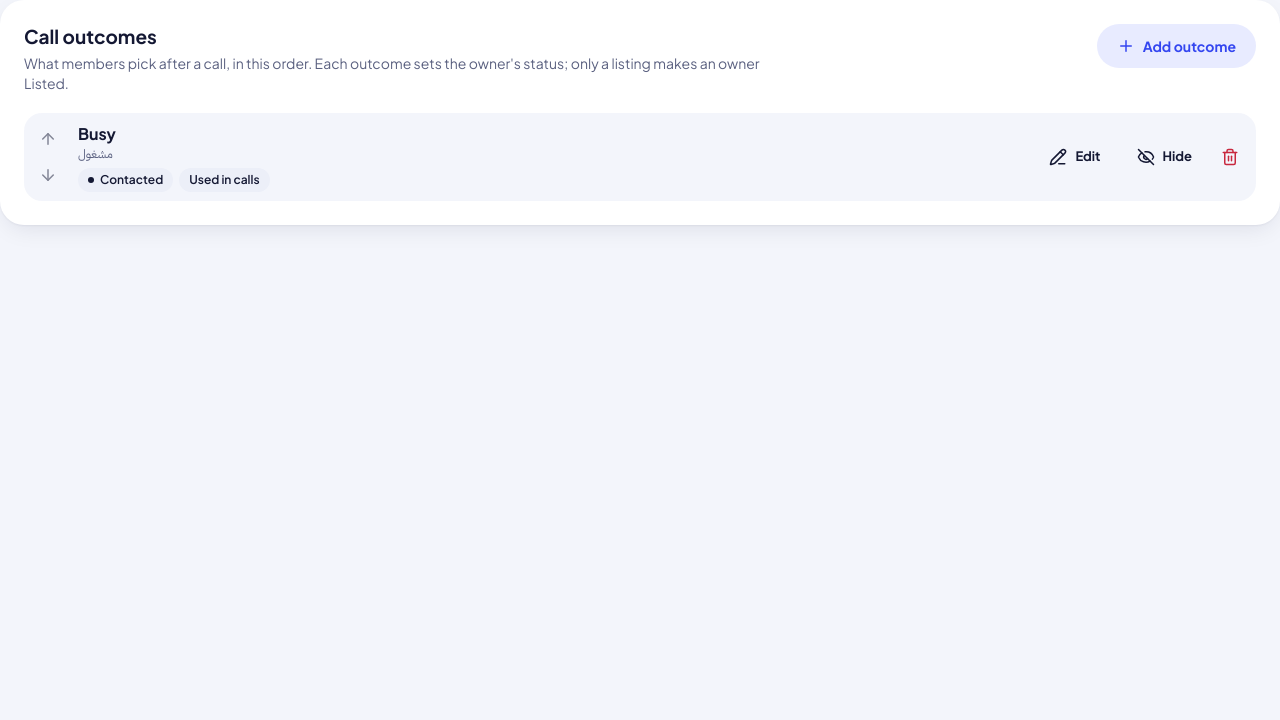
Scenario: Call outcomes › goes straight to the Hide offer for an outcome already in use
Click the button with test id "outcome-delete" at (1230, 157), box [1212,139,1248,175]
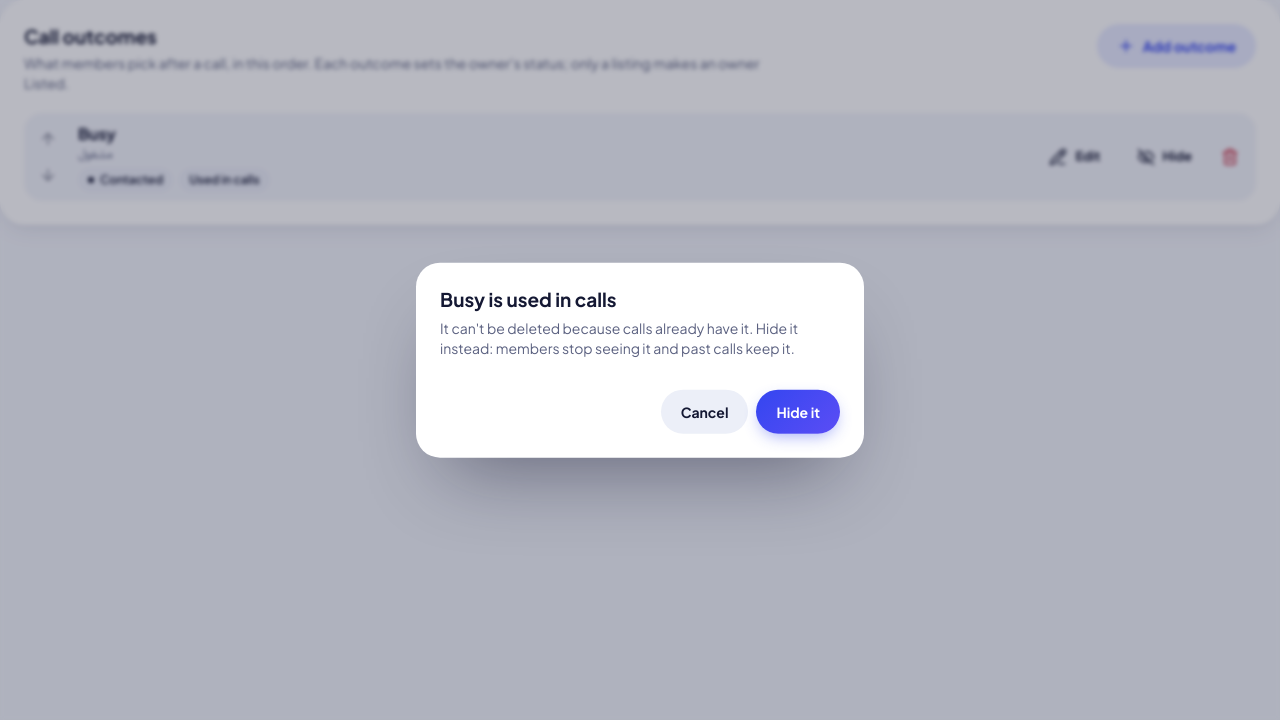
Expected: the button "Hide it" is shown, [756,389,840,433]
